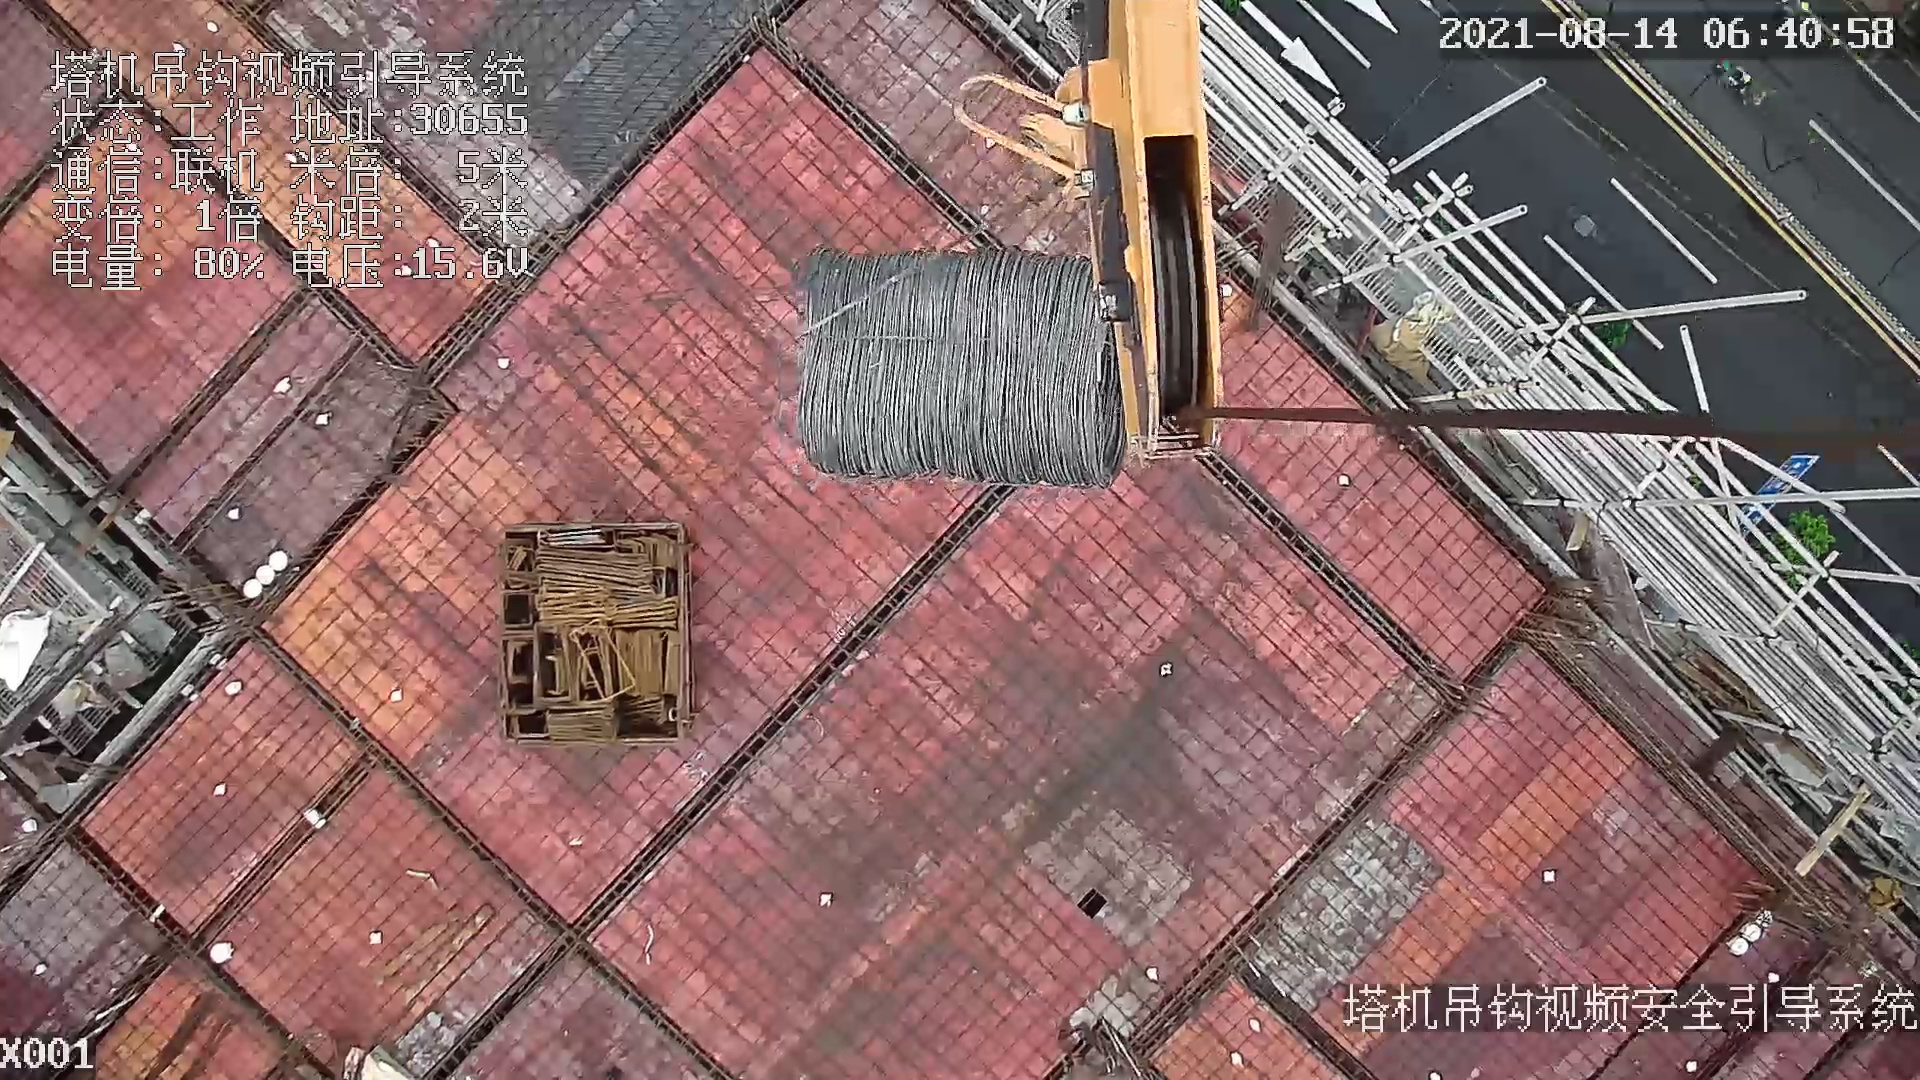hook: (949, 1, 1228, 460)
